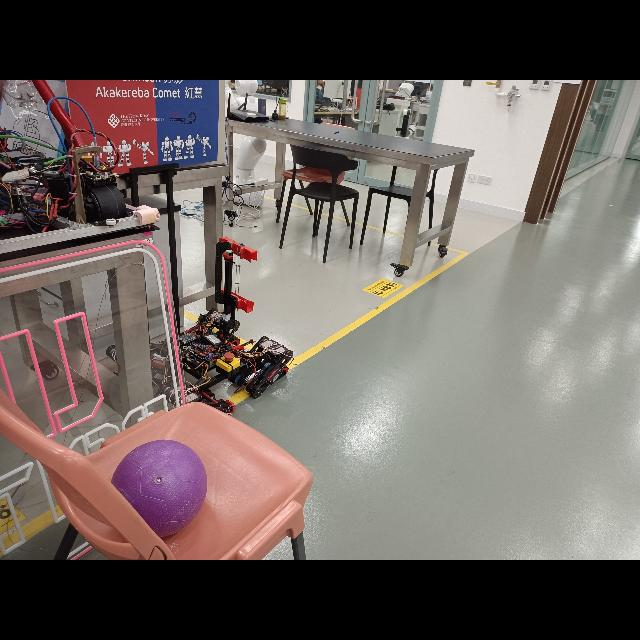P: (110, 438, 208, 536)
